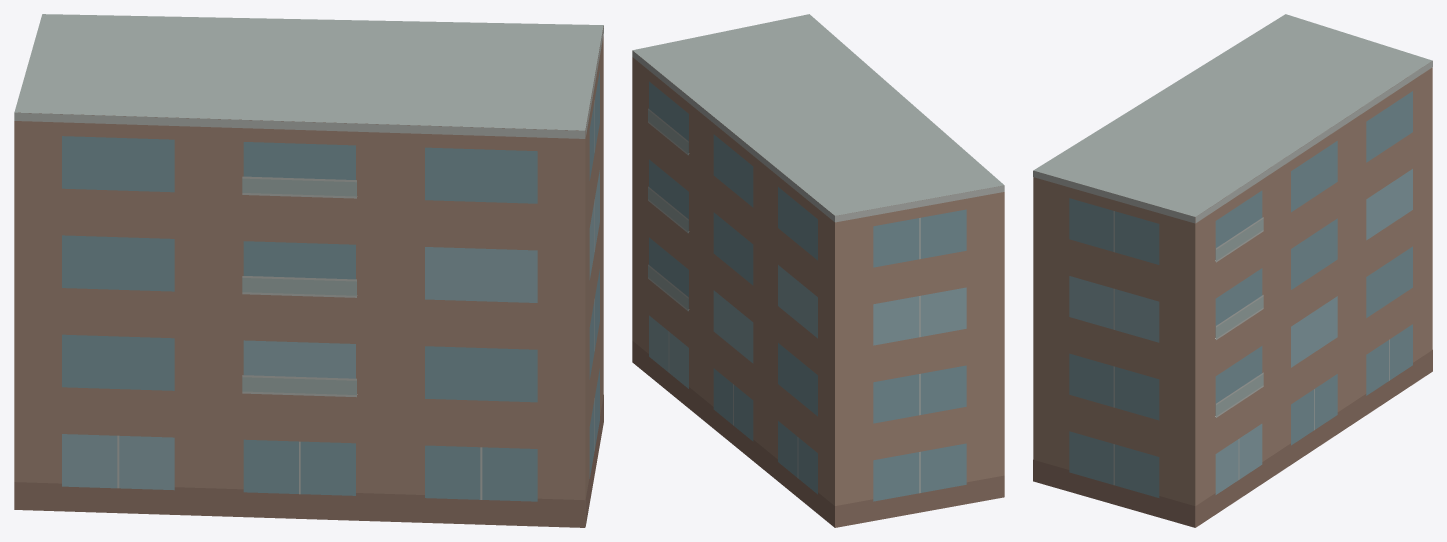
The model's file is survey-upis-32626557.glb.
The picture shows the model from 3 angles, left to right: view 1: azimuth 30°, elevation 25°; view 2: azimuth 150°, elevation 25°; view 3: azimuth 270°, elevation 25°; orthographic projection. The views are drawn at different scales.
Visible parts, largest first — view 1: survey-upis-32626557.tmp; view 2: survey-upis-32626557.tmp; view 3: survey-upis-32626557.tmp.
Boxes of the visible parts, <box> form: survey-upis-32626557.tmp: <box>14,14,603,527</box>; survey-upis-32626557.tmp: <box>632,14,1004,527</box>; survey-upis-32626557.tmp: <box>1033,14,1432,527</box>.
Size of the model in its own units: 16.26 by 11.6 by 13.52.
